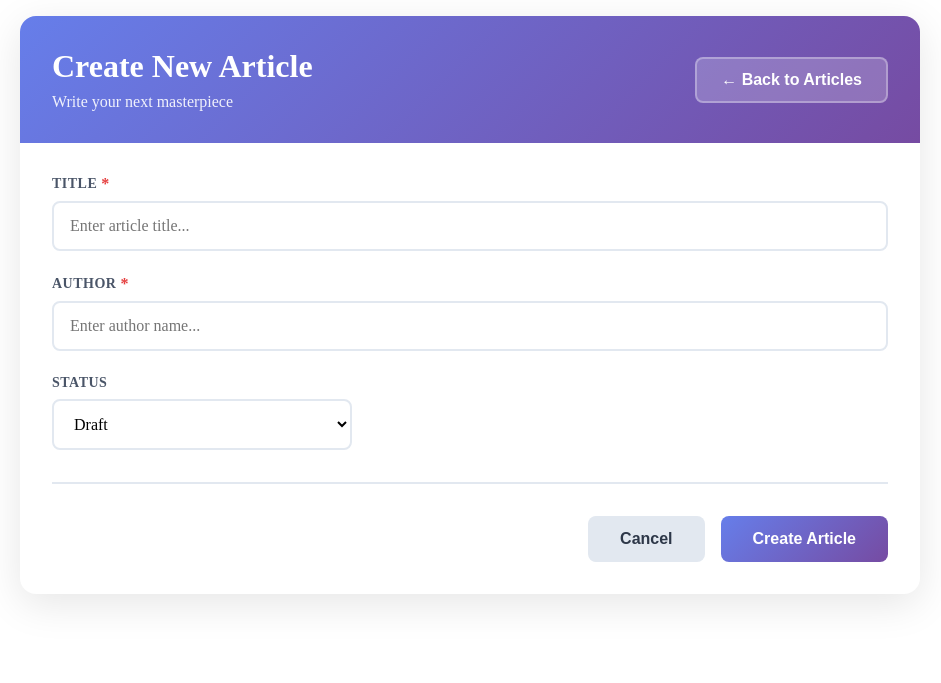
Test: ArticleFormPage - Error Handling › handles network errors gracefully
The image size is (941, 683).
Type "Test" into the field with placeholder "Enter article title..." at (470,226), box left=52, top=201, right=888, bottom=251
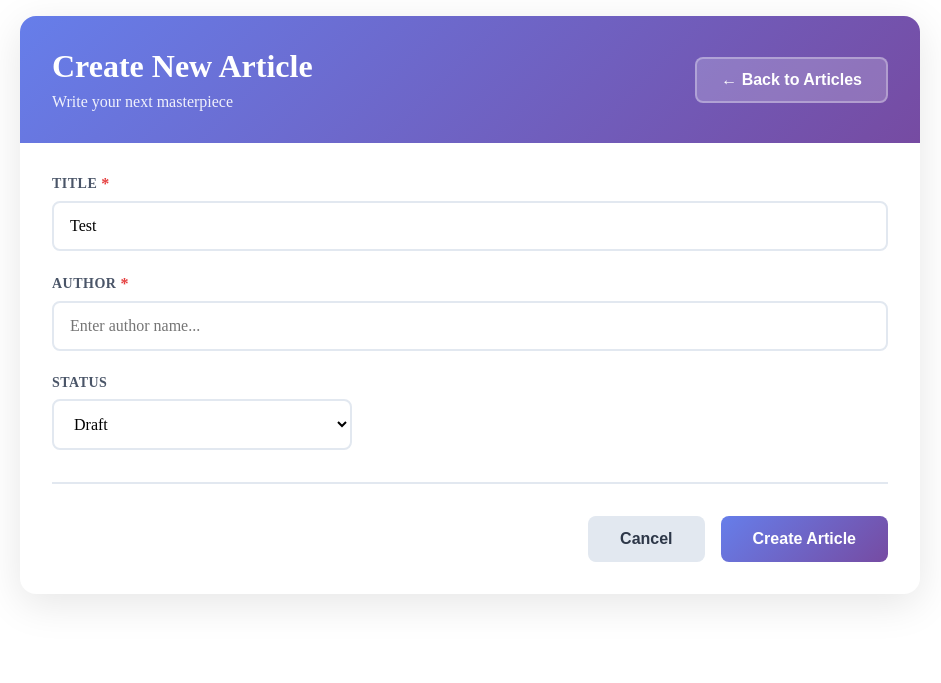
Type "Author" into the field with placeholder "Enter author name..." at (470,326), box left=52, top=301, right=888, bottom=351
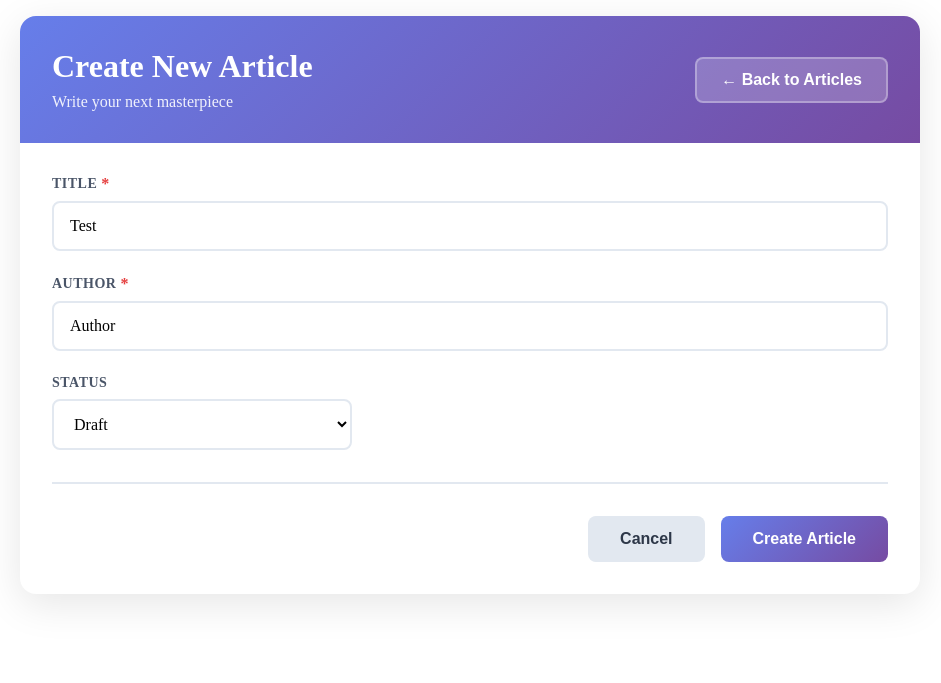
Click the button "Create Article" at (804,539), box left=720, top=516, right=888, bottom=562
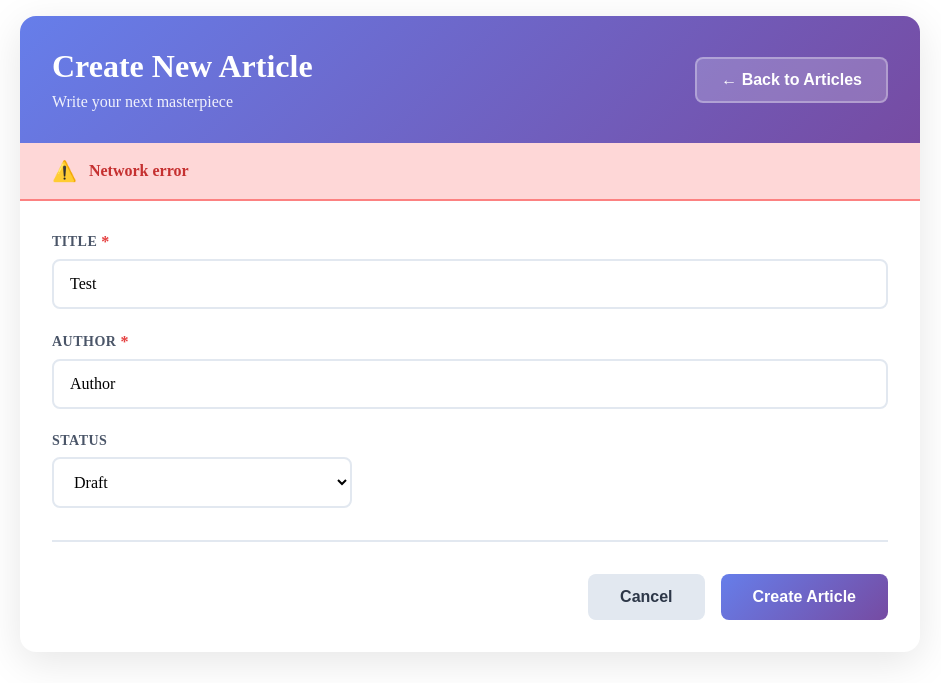
Now the text "Network error" is shown, box left=89, top=162, right=189, bottom=180
